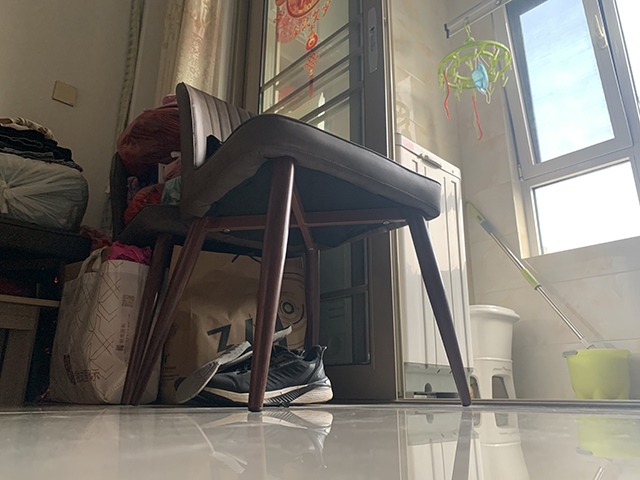stool: (114, 79, 473, 416)
